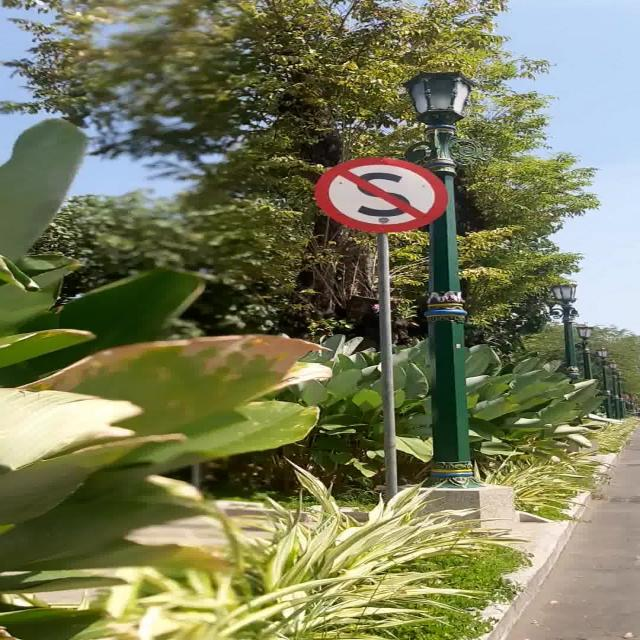Dilarang Berhenti: (314, 157, 448, 233)
